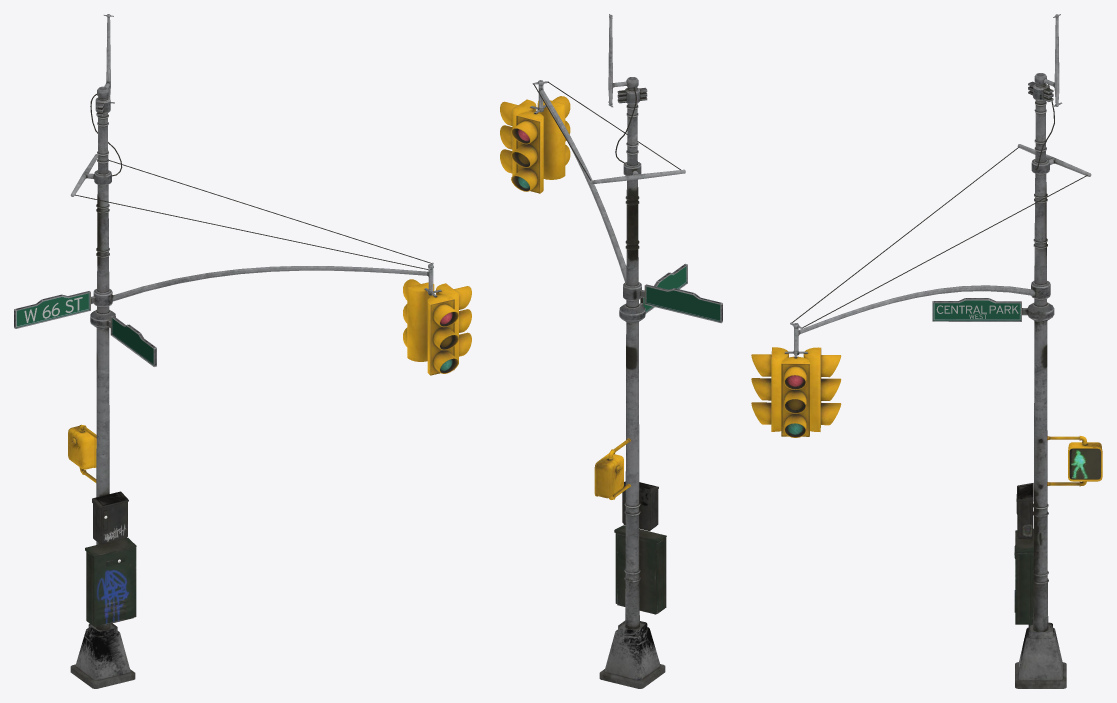
The model's file is traffic_light-transformed.glb.
The picture shows the model from 3 angles, left to right: view 1: azimuth 30°, elevation 25°; view 2: azimuth 150°, elevation 25°; view 3: azimuth 270°, elevation 25°; orthographic projection. The views are drawn at different scales.
Visible parts, largest first — view 1: traffic signal - MAIN, traffic_light - left, traffic_light - right, street sign - top, street sign - bottom, traffic_light - center, walk_signal; view 2: traffic signal - MAIN, traffic_light - right, traffic_light - left, street sign - top, walk_signal, traffic_light - center, street sign - bottom; view 3: traffic signal - MAIN, street sign - bottom, traffic_light - center, traffic_light - right, traffic_light - left, walk_signal__face, walk_signal.
Part boxes in pixels (box(x1,y1,x2,y2)): traffic signal - MAIN: box(70, 14, 433, 688); traffic_light - left: box(427, 293, 458, 375); traffic_light - right: box(403, 279, 434, 361); street sign - top: box(14, 291, 95, 328); street sign - bottom: box(90, 309, 156, 366); traffic_light - center: box(433, 283, 471, 359); walk_signal: box(68, 424, 96, 482); traffic signal - MAIN: box(532, 14, 685, 688); traffic_light - right: box(511, 110, 543, 193); traffic_light - left: box(537, 96, 570, 179); street sign - top: box(640, 284, 722, 323); walk_signal: box(594, 438, 630, 499); traffic_light - center: box(500, 99, 537, 175); street sign - bottom: box(619, 263, 687, 323); traffic signal - MAIN: box(790, 14, 1091, 688); street sign - bottom: box(932, 298, 1054, 322); traffic_light - center: box(781, 353, 809, 437); traffic_light - right: box(799, 347, 841, 431); traffic_light - left: box(751, 347, 793, 431); walk_signal__face: box(1069, 448, 1100, 479); walk_signal: box(1047, 436, 1102, 486).
Bounding box in the file's own units: 3.28 × 6.09 × 2.89.
6 materials, 6 textured.
